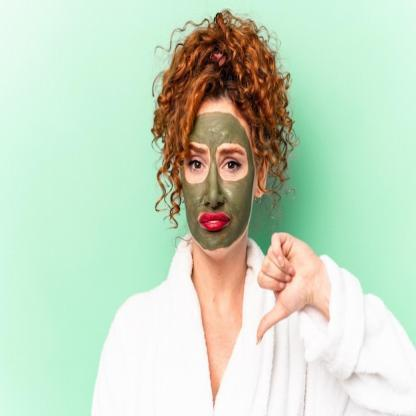thumb_down: (255, 226, 312, 349)
